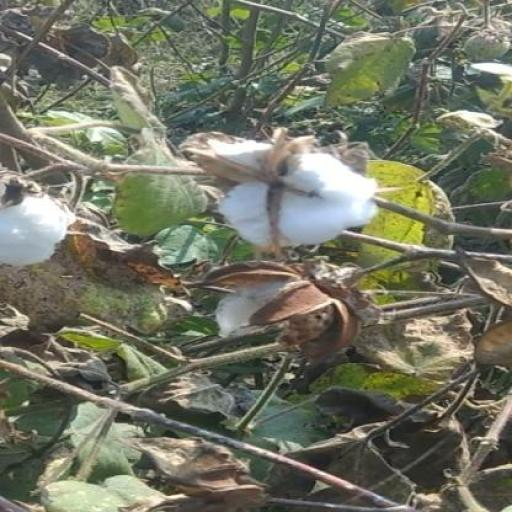cotton_ready: (190, 138, 398, 266)
